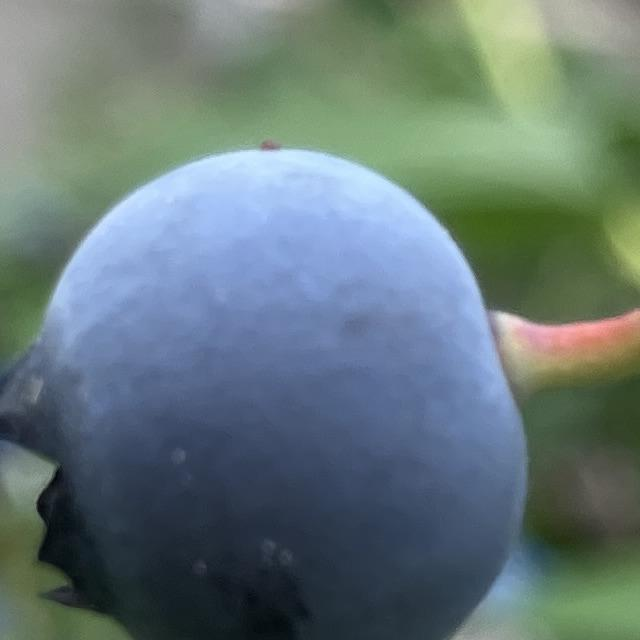Blueberries: (0, 138, 531, 640)
